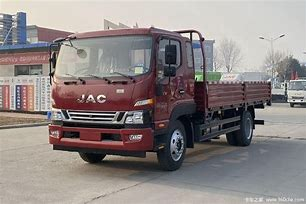smalltruck: (44, 20, 275, 175)
